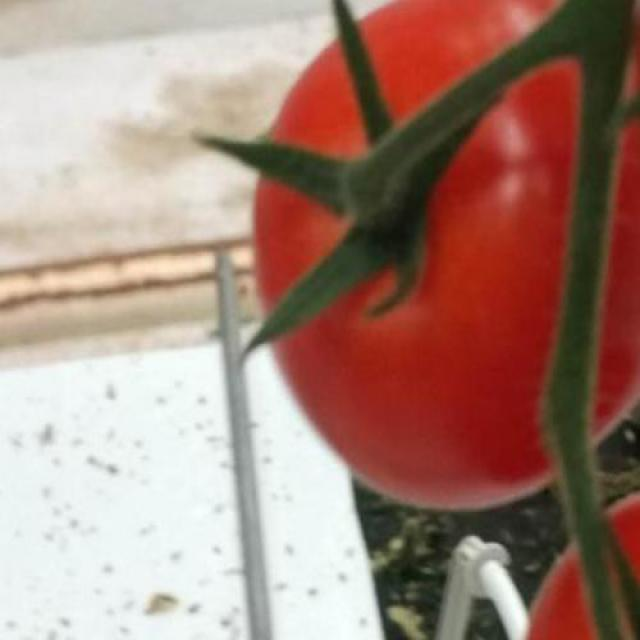tomato: (253, 0, 640, 515)
